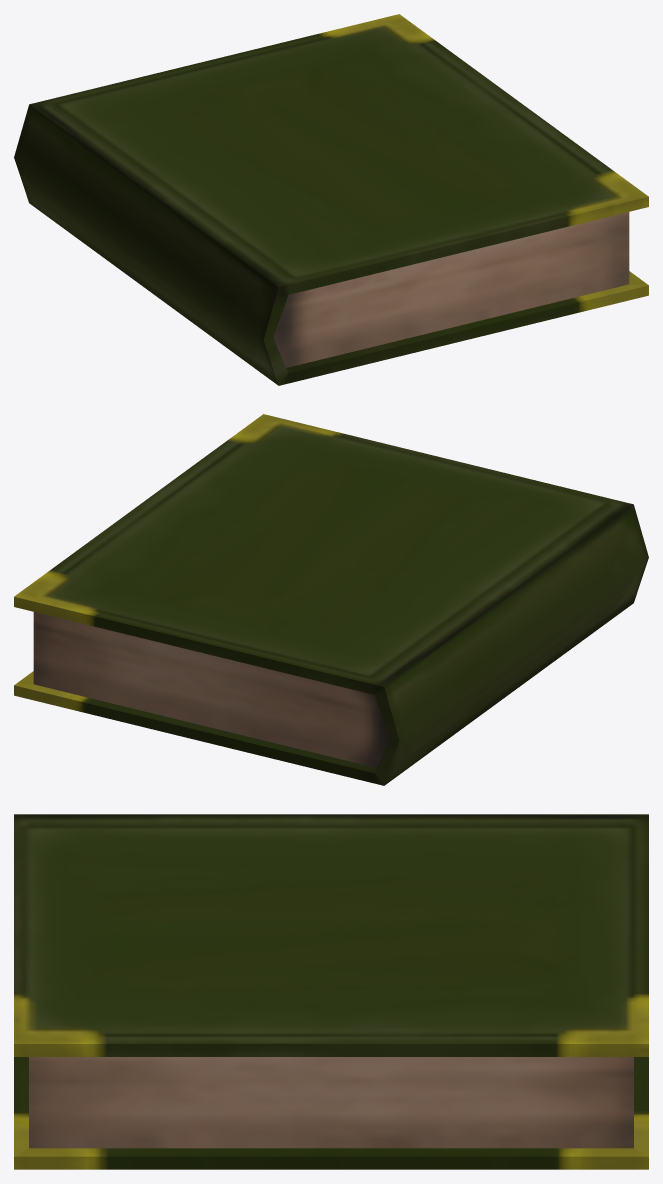
The model's file is book_003.fbx.
The picture shows the model from 3 angles, top to bottom: view 1: azimuth 30°, elevation 25°; view 2: azimuth 150°, elevation 25°; view 3: azimuth 270°, elevation 25°; orthographic projection. The views are drawn at different scales.
Parts seen in each view (by area): view 1: book; view 2: book; view 3: book.
Part boxes in pixels (left/top/right/bottom): book: left=14, top=14, right=648, bottom=385; book: left=14, top=414, right=648, bottom=785; book: left=14, top=814, right=648, bottom=1169.
Bounding box in the file's own units: 19.99 × 4.9 × 22.42.
